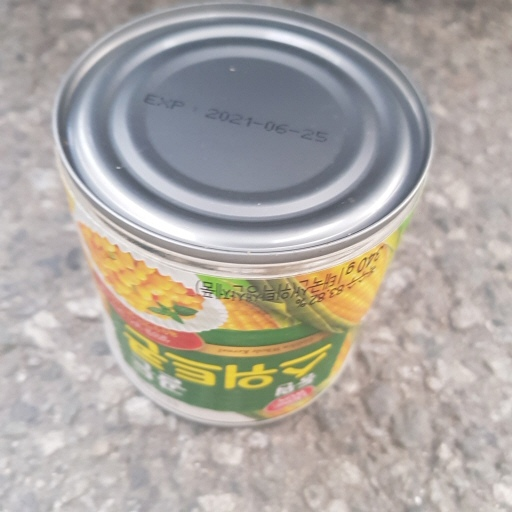Metal_1: (48, 6, 434, 430)
